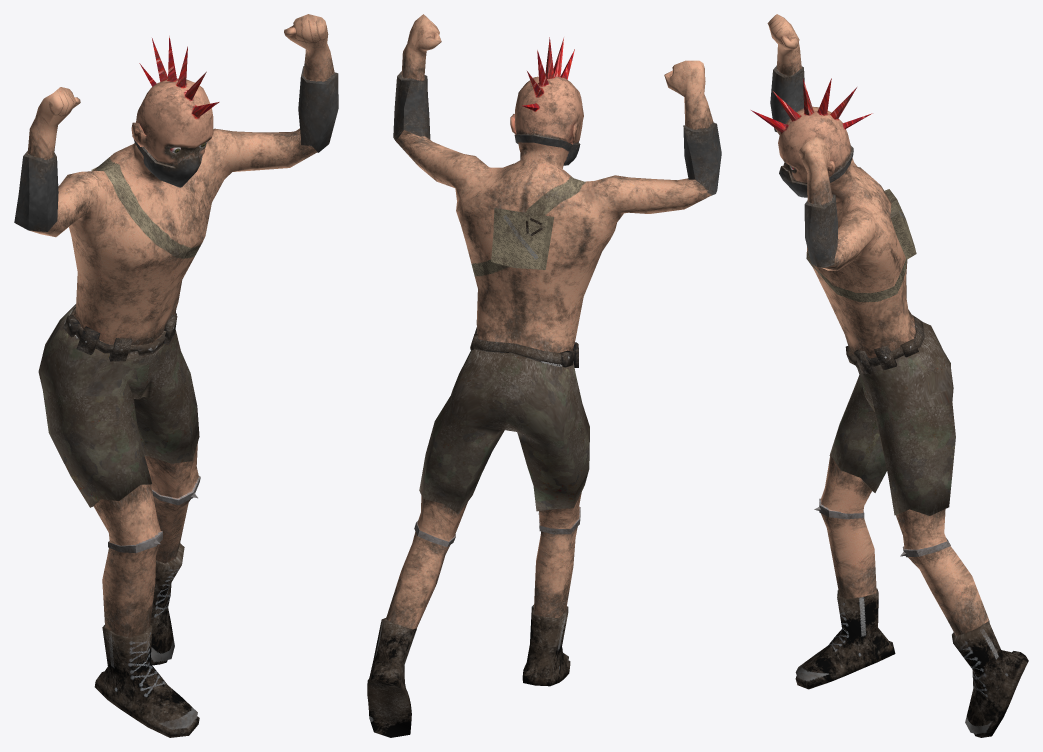
Rendered from Anim_ganar_1_npc2.0029.obj.
3 views of the same model, side by side, from view 1: azimuth 30°, elevation 25°; view 2: azimuth 150°, elevation 25°; view 3: azimuth 270°, elevation 25° (orthographic). The views are drawn at different scales.
Parts seen in each view (by area): view 1: polySurface1; view 2: polySurface1; view 3: polySurface1.
Part boxes in pixels (left/top/right/bottom): polySurface1: left=14, top=14, right=338, bottom=737; polySurface1: left=367, top=14, right=721, bottom=737; polySurface1: left=751, top=14, right=1028, bottom=737.
Size of the model in its own units: 5.11 by 10.34 by 4.16.
